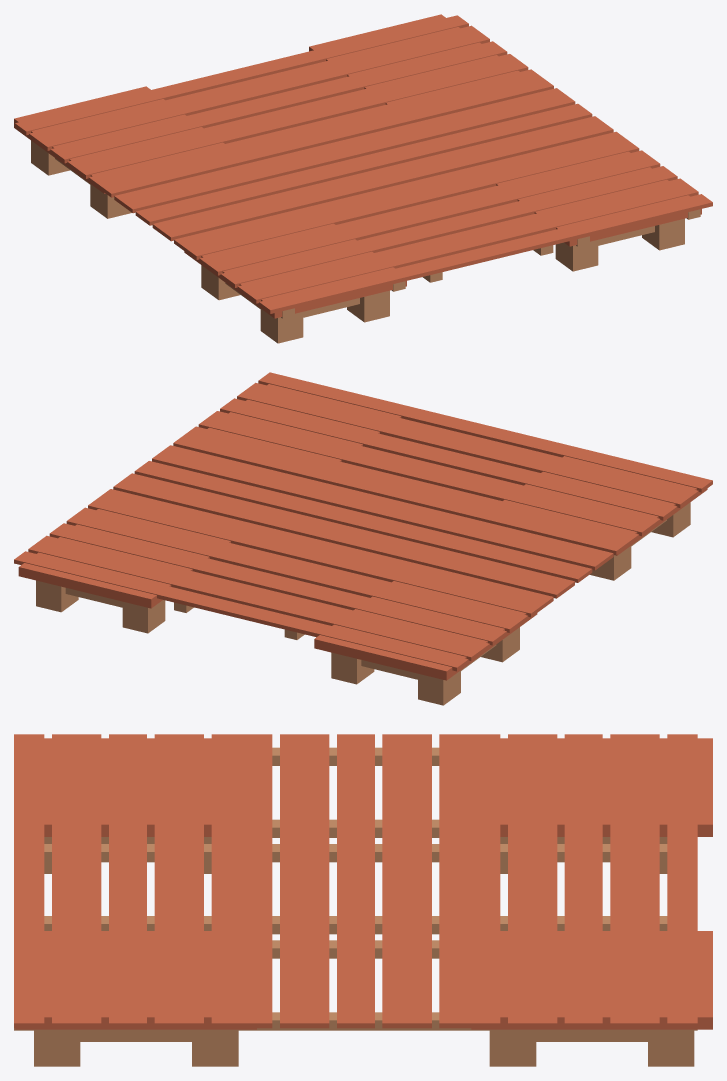
The model's file is plateforme.fbx.
3 views of the same model, one above another, from view 1: azimuth 30°, elevation 25°; view 2: azimuth 150°, elevation 25°; view 3: azimuth 270°, elevation 25° (orthographic). The views are drawn at different scales.
Visible parts, largest first — view 1: mergedBlocks; view 2: mergedBlocks; view 3: mergedBlocks.
Part boxes in pixels (<box>): mergedBlocks: <box>14,14,712,343</box>; mergedBlocks: <box>14,372,712,705</box>; mergedBlocks: <box>14,734,712,1066</box>.
Size of the model in its own units: 30 by 2.75 by 30.67.
